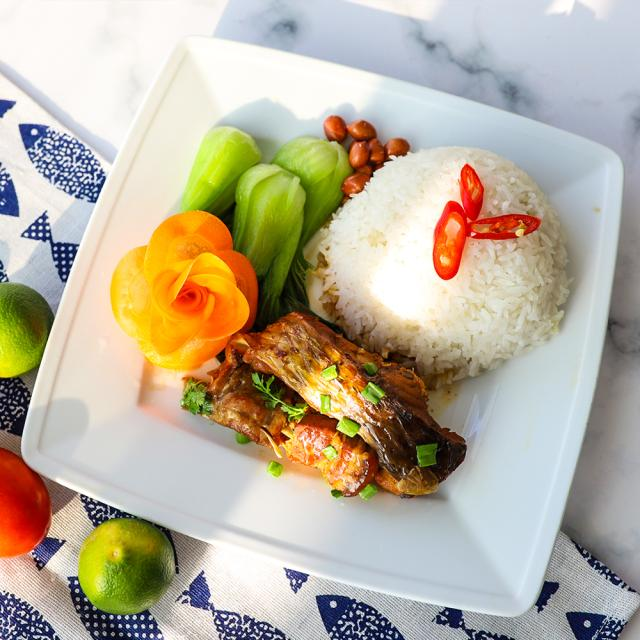ca chien: (184, 313, 466, 498)
com: (310, 147, 570, 388)
ot: (432, 165, 542, 279)
rau: (181, 127, 351, 321)
